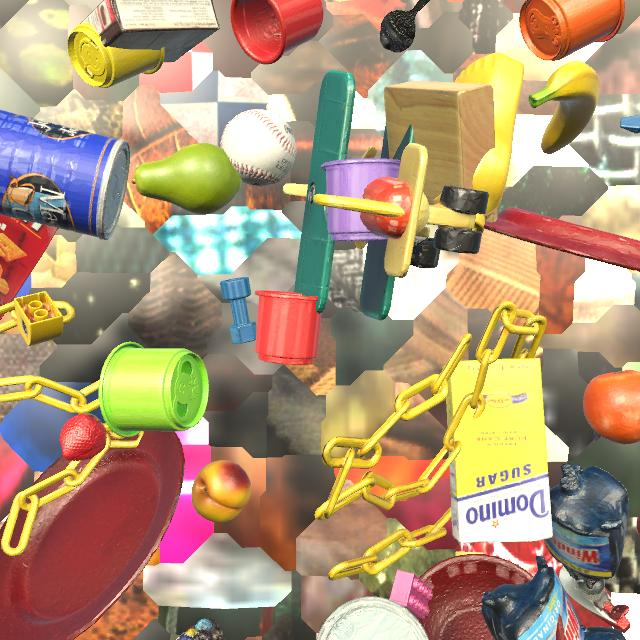ycb_002_master_chef_can: (0, 110, 130, 240), (316, 596, 429, 640)
ycb_003_cracker_box: (0, 214, 59, 320)
ycb_004_sugar_box: (442, 358, 553, 544)
ycb_006_mustard_bottle: (434, 53, 524, 233)
ycb_008_pudding_box: (80, 0, 220, 63)
ycb_011_banana: (528, 61, 600, 154)
ycb_012_strawberry: (60, 413, 107, 461)
ycb_015_peach: (191, 460, 251, 523)
ycb_016_pear: (131, 143, 242, 215)
ycb_017_orange: (583, 370, 640, 444)
